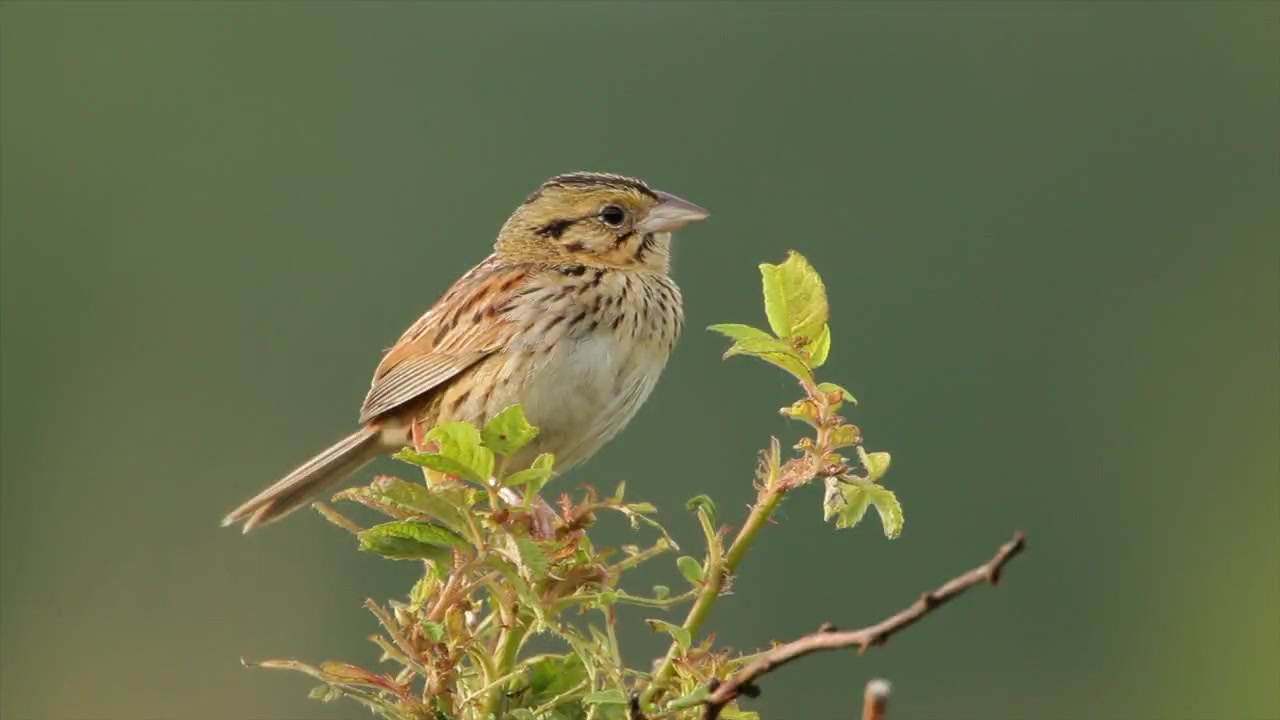bird: (220, 171, 714, 534)
